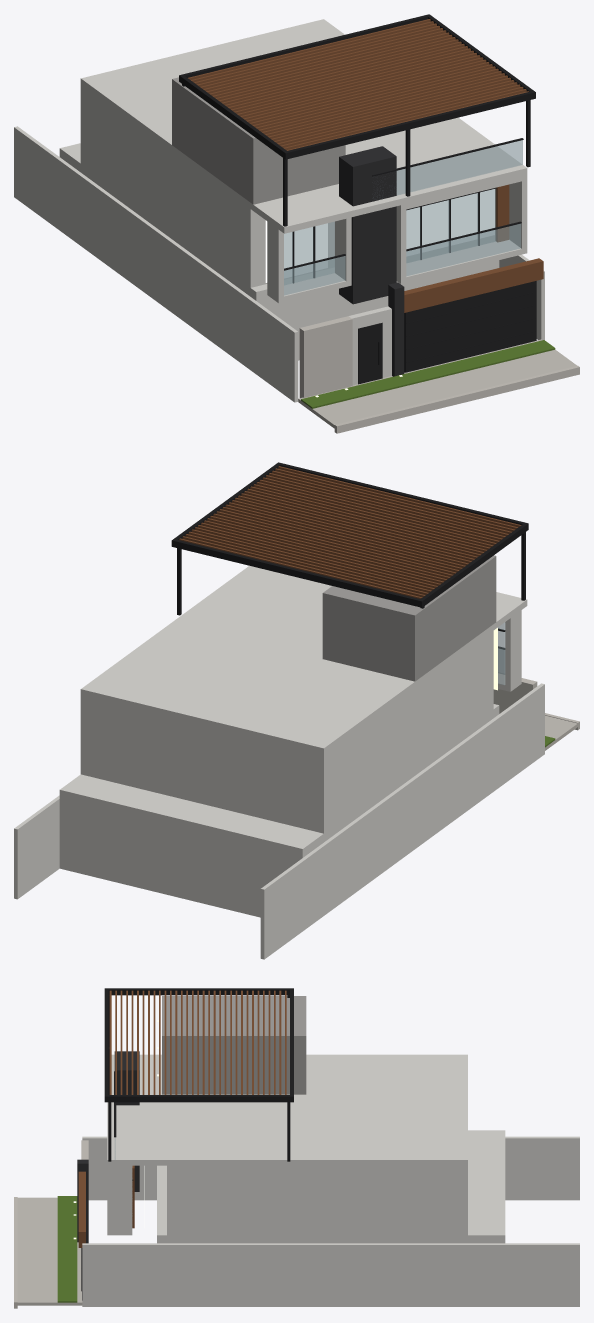
The model's file is prototipo-4.glb.
The picture shows the model from 3 angles, top to bottom: view 1: azimuth 30°, elevation 25°; view 2: azimuth 150°, elevation 25°; view 3: azimuth 270°, elevation 25°; orthographic projection. The views are drawn at different scales.
Parts seen in each view (by area): view 1: prototipo-4; view 2: prototipo-4; view 3: prototipo-4.
Part boxes in pixels (box(x1,y1,x2,y2)): prototipo-4: box(14, 14, 579, 433); prototipo-4: box(14, 462, 579, 959); prototipo-4: box(14, 988, 579, 1308).
Bounding box in the file's own units: 10.45 × 9.55 × 22.75.
